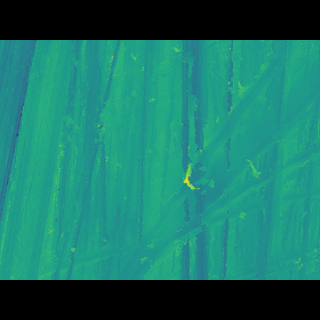Loch: (100, 69, 320, 249)
